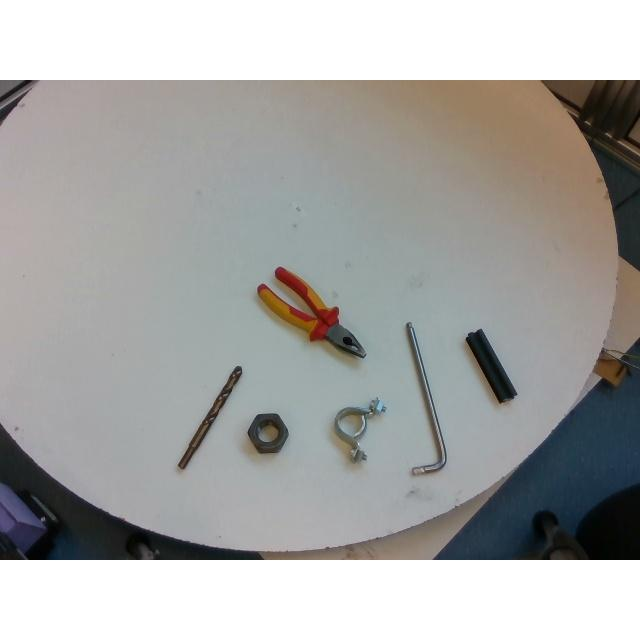AllenKey: (406, 322, 446, 474)
Drill: (178, 364, 242, 468)
F20_20_B: (466, 330, 516, 402)
Housing: (334, 396, 386, 459)
M30: (247, 412, 287, 452)
